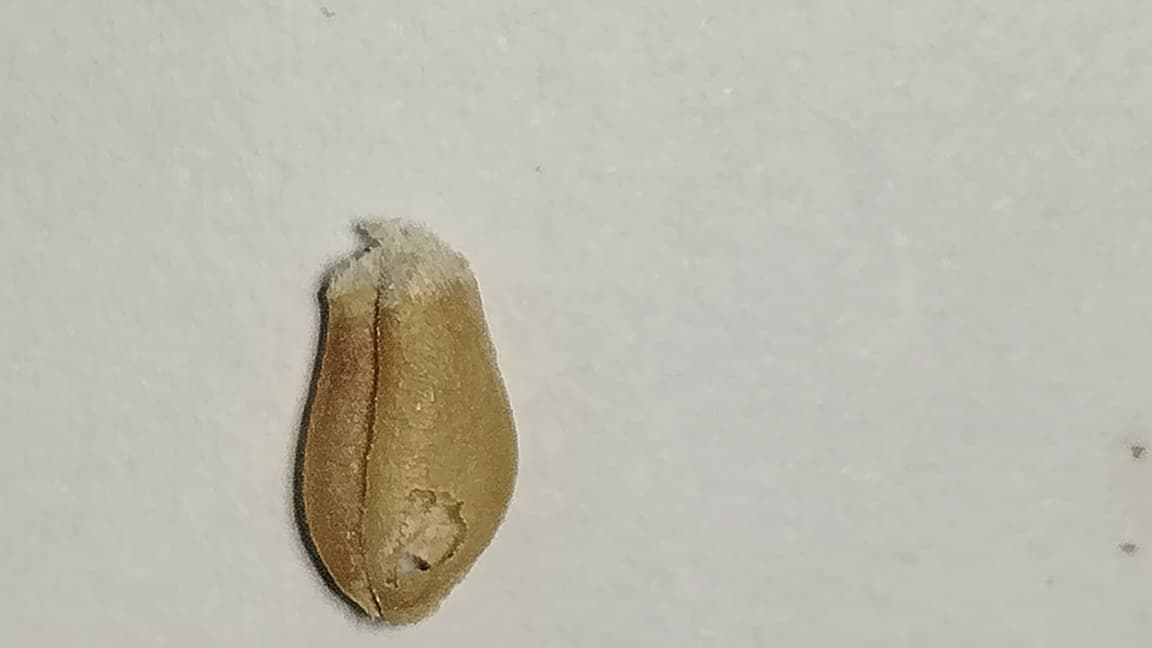damage: (298, 263, 516, 622)
insectdamage: (365, 435, 475, 613)
